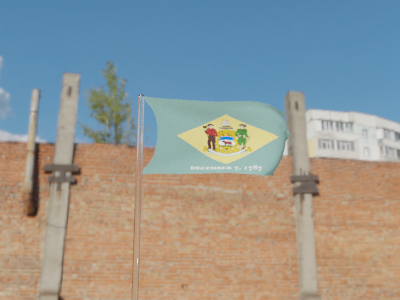Delaware flag: (141, 94, 291, 177)
